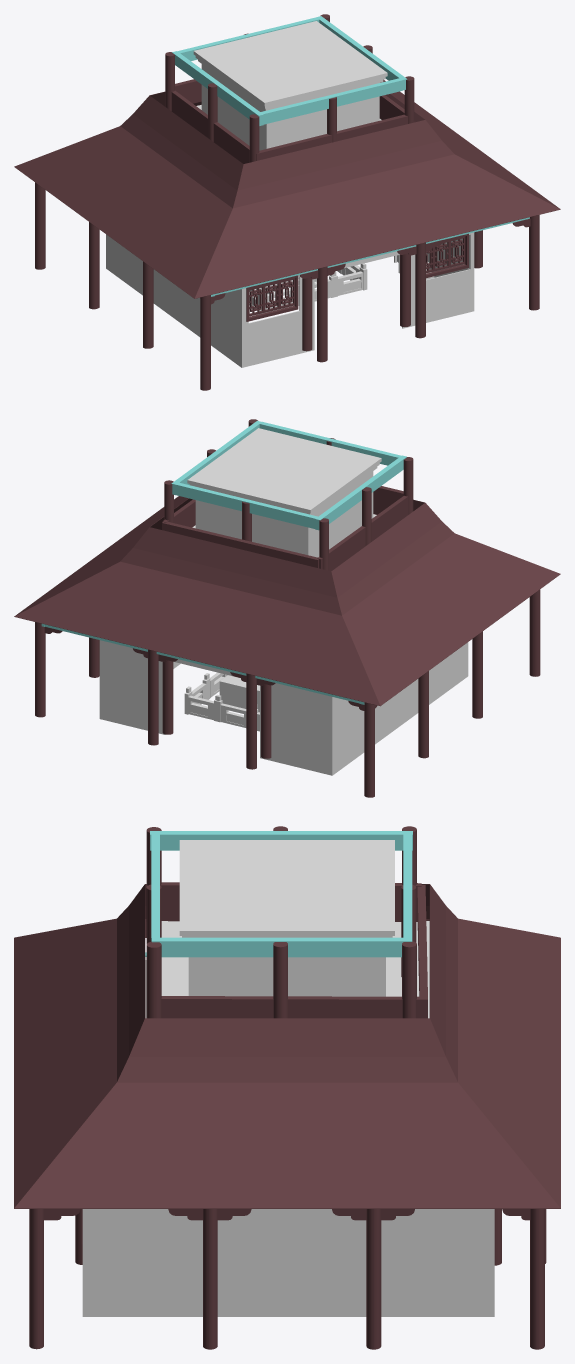
The model's file is interior_objects_v1.fbx.
3 views of the same model, one above another, from view 1: azimuth 30°, elevation 25°; view 2: azimuth 150°, elevation 25°; view 3: azimuth 270°, elevation 25° (orthographic). The views are drawn at different scales.
Parts seen in each view (by area): view 1: Cube.008, upper_hall, Plane.008, Cylinder.176, Cube.062, Cube.017, Cube.001, Cylinder.181, Cube.054, Cube.066, Cube.063; view 2: Cube.008, Plane.008, upper_hall, Cylinder.176, Cube.062, Cube.017, Cylinder.181, Cube.072, Cube.063, Cube.043, Cube.058, Cube.066; view 3: Cube.008, Plane.008, upper_hall, Cube.062, Cylinder.176, Cube.017, Cylinder.181, Plane.007, Cube.066.
Part boxes in pixels (<box>): Cube.008: <box>14,79,560,298</box>; upper_hall: <box>193,21,387,150</box>; Plane.008: <box>106,232,474,367</box>; Cylinder.176: <box>35,182,539,390</box>; Cube.062: <box>172,16,407,125</box>; Cube.017: <box>171,79,407,163</box>; Cube.001: <box>246,233,468,321</box>; Cylinder.181: <box>165,14,414,162</box>; Cube.054: <box>257,271,363,314</box>; Cube.066: <box>211,218,530,304</box>; Cube.063: <box>211,217,529,296</box>; Cube.008: <box>14,496,560,706</box>; Plane.008: <box>99,640,468,775</box>; upper_hall: <box>187,428,381,557</box>; Cylinder.176: <box>35,589,540,797</box>; Cube.062: <box>171,420,406,530</box>; Cube.017: <box>162,486,408,571</box>; Cylinder.181: <box>164,419,413,570</box>; Cube.072: <box>188,694,259,731</box>; Cube.063: <box>41,623,364,704</box>; Cube.043: <box>219,675,259,712</box>; Cube.058: <box>184,672,227,714</box>; Cube.066: <box>44,627,377,710</box>; Cube.008: <box>14,884,560,1208</box>; Plane.008: <box>82,957,494,1316</box>; upper_hall: <box>179,840,394,996</box>; Cube.062: <box>150,831,412,957</box>; Cylinder.176: <box>29,1209,546,1349</box>; Cube.017: <box>146,882,427,1018</box>; Cylinder.181: <box>146,826,416,1018</box>; Plane.007: <box>161,921,429,1018</box>; Cube.066: <box>43,1209,530,1220</box>.
Size of the model in its own units: 1556 by 926 by 1327.
